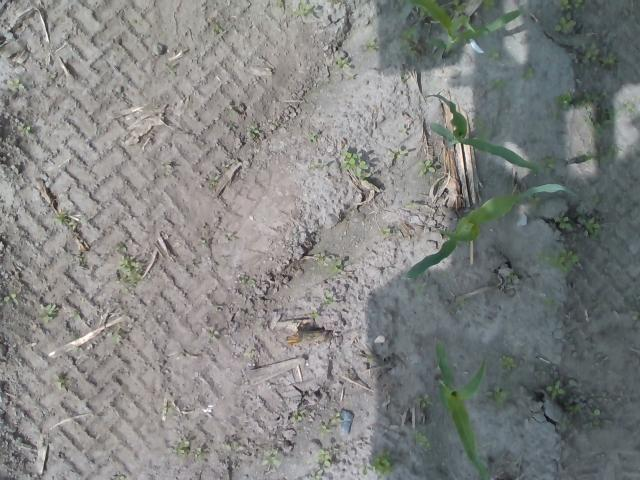Maize: (404, 183, 576, 282), (423, 92, 542, 172), (430, 336, 490, 480), (413, 0, 534, 61)
Weeds: (554, 88, 616, 137), (552, 210, 600, 240), (115, 239, 142, 285), (533, 246, 580, 271), (358, 445, 391, 476), (576, 145, 625, 164), (339, 148, 369, 177), (582, 45, 618, 69), (566, 403, 602, 427), (398, 25, 420, 58), (314, 253, 342, 276), (319, 412, 343, 434), (546, 379, 566, 401), (554, 15, 577, 34), (51, 214, 78, 230), (490, 384, 508, 406), (38, 302, 58, 320), (498, 351, 516, 371), (262, 447, 280, 466), (418, 158, 436, 176), (170, 438, 188, 456), (412, 429, 429, 448), (542, 155, 556, 178), (296, 0, 314, 17), (389, 144, 408, 160), (559, 0, 586, 11), (317, 446, 331, 466), (245, 126, 261, 142), (624, 100, 640, 116), (416, 394, 432, 410), (207, 325, 223, 341), (478, 0, 496, 13), (1, 293, 20, 305), (5, 78, 20, 93), (520, 66, 536, 80), (70, 306, 84, 320), (528, 196, 542, 210), (15, 122, 30, 135), (237, 274, 256, 284), (489, 79, 506, 90), (290, 410, 304, 423), (208, 175, 218, 192), (108, 330, 120, 344), (54, 378, 66, 392), (338, 59, 350, 72), (193, 448, 204, 461), (307, 130, 317, 144), (366, 40, 376, 54), (308, 470, 322, 480), (380, 225, 390, 238), (488, 48, 499, 59), (506, 272, 518, 282), (322, 294, 334, 303), (407, 202, 418, 209)
